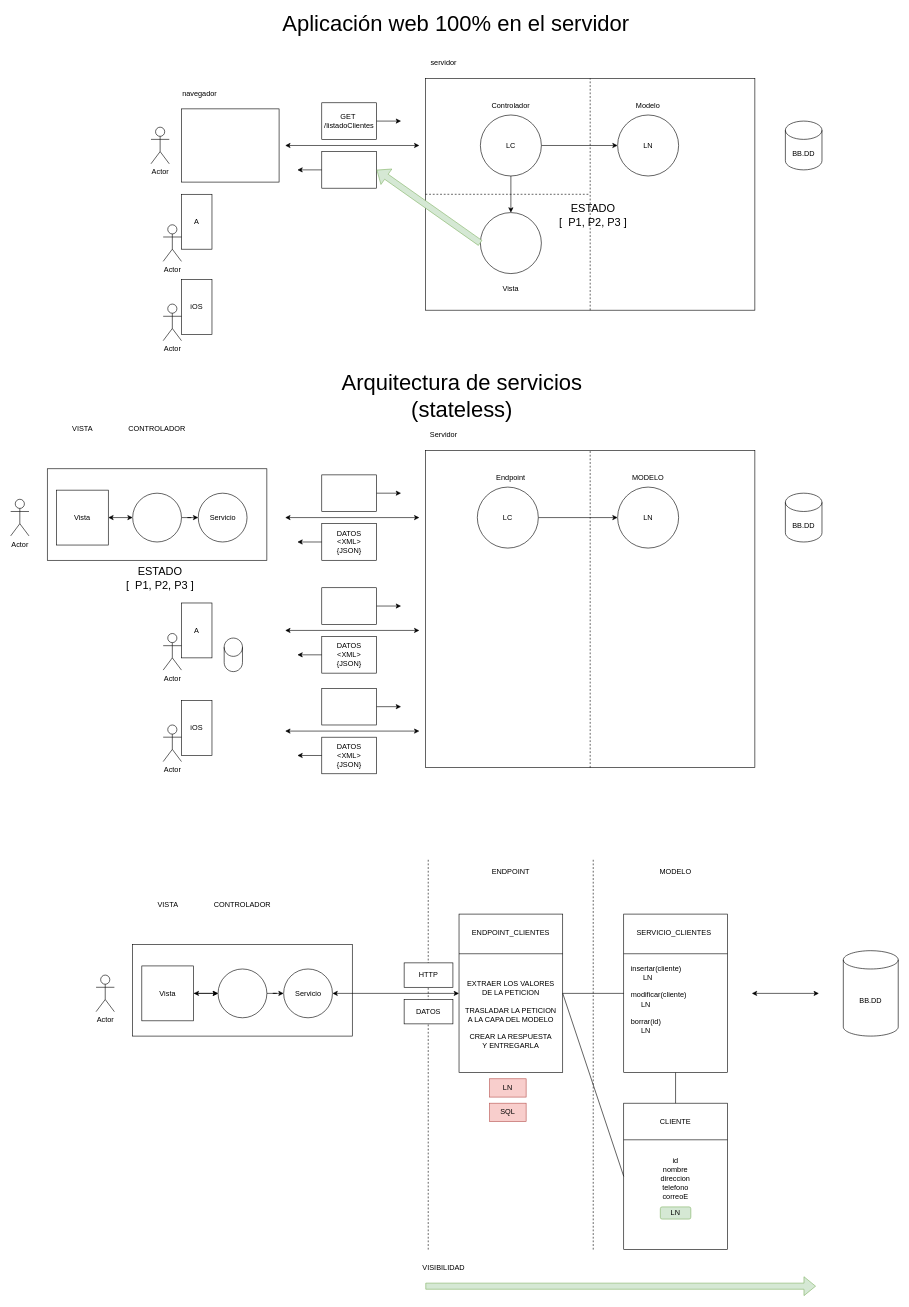
The diagram is 909 pixels wide and 1307 high, and some of its shapes have lost their labels. Here are the shapes that lost their labels. From the top down, the box of each, then its label:
(321, 151, 377, 188): <HTML>
(132, 493, 181, 542): Componente LC
(217, 968, 267, 1018): Componente
